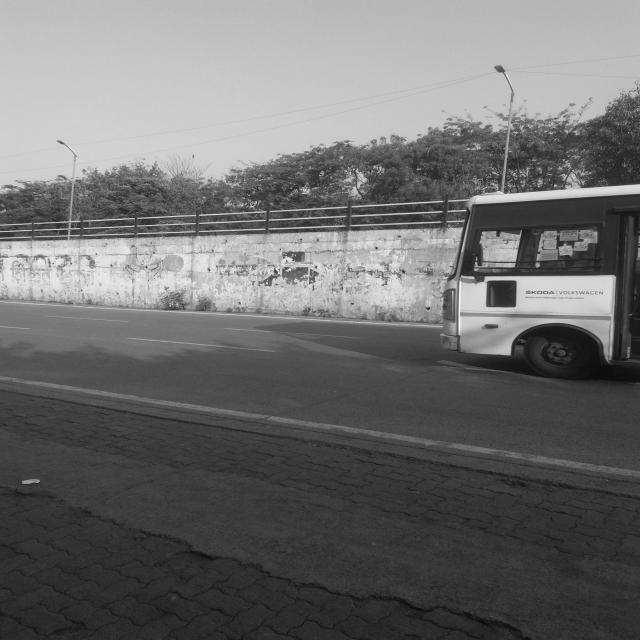Bus: (443, 195, 638, 378)
